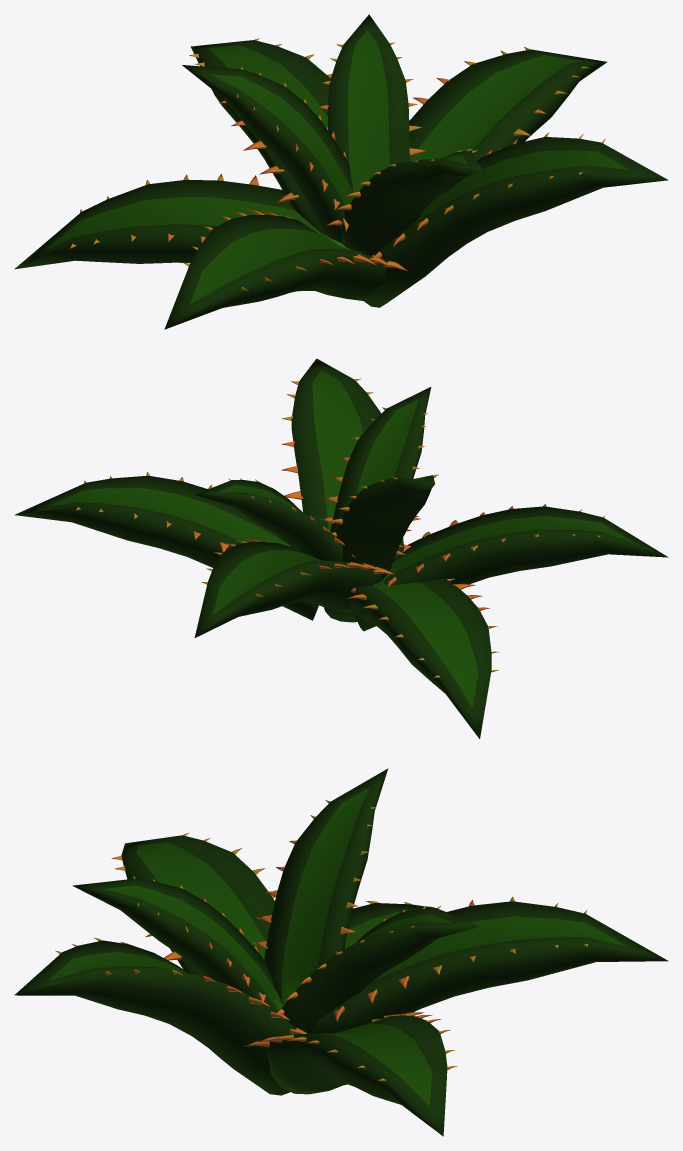
Rendered from aloeVera.fbx.
3 views of the same model, one above another, from view 1: azimuth 30°, elevation 25°; view 2: azimuth 150°, elevation 25°; view 3: azimuth 270°, elevation 25° (orthographic). The views are drawn at different scales.
Parts seen in each view (by area): view 1: Cube; view 2: Cube; view 3: Cube.
Boxes of the visible parts, x1,y1,x2,y2 form: Cube: (14,14,668,329); Cube: (15,358,668,738); Cube: (14,768,668,1136).
Size of the model in its own units: 146 by 55.26 by 132.
